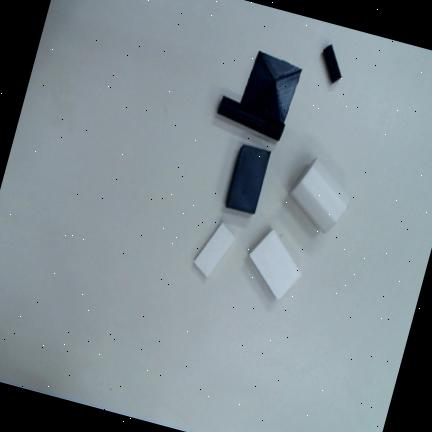Cilindro: (216, 95, 285, 142), (322, 44, 341, 83)
Paralelepipedo: (248, 229, 301, 300), (224, 143, 270, 214), (193, 222, 235, 277)
Piramide: (239, 49, 302, 127)
Prisma_hexagonal: (288, 156, 350, 232)
